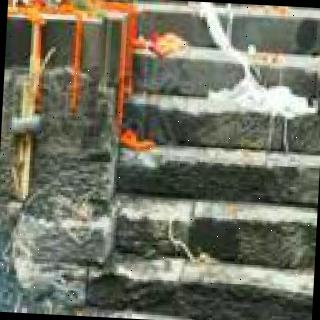fire: (7, 0, 46, 10)
